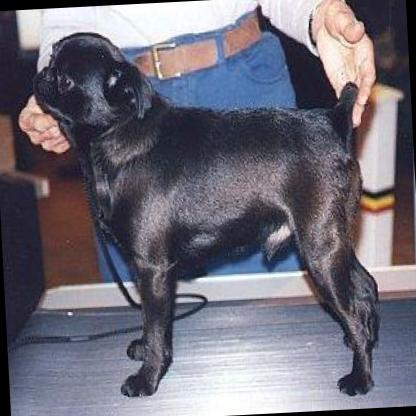Brabancon_griffon: (26, 12, 385, 410)
